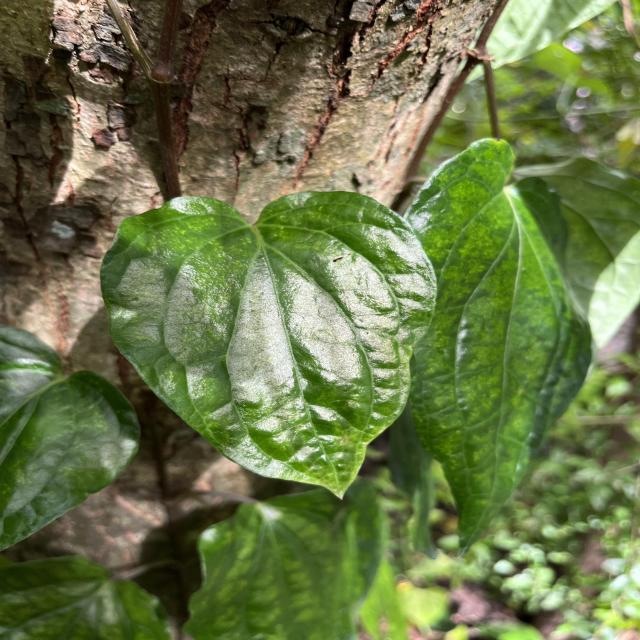Piper betle: (96, 186, 442, 504)
